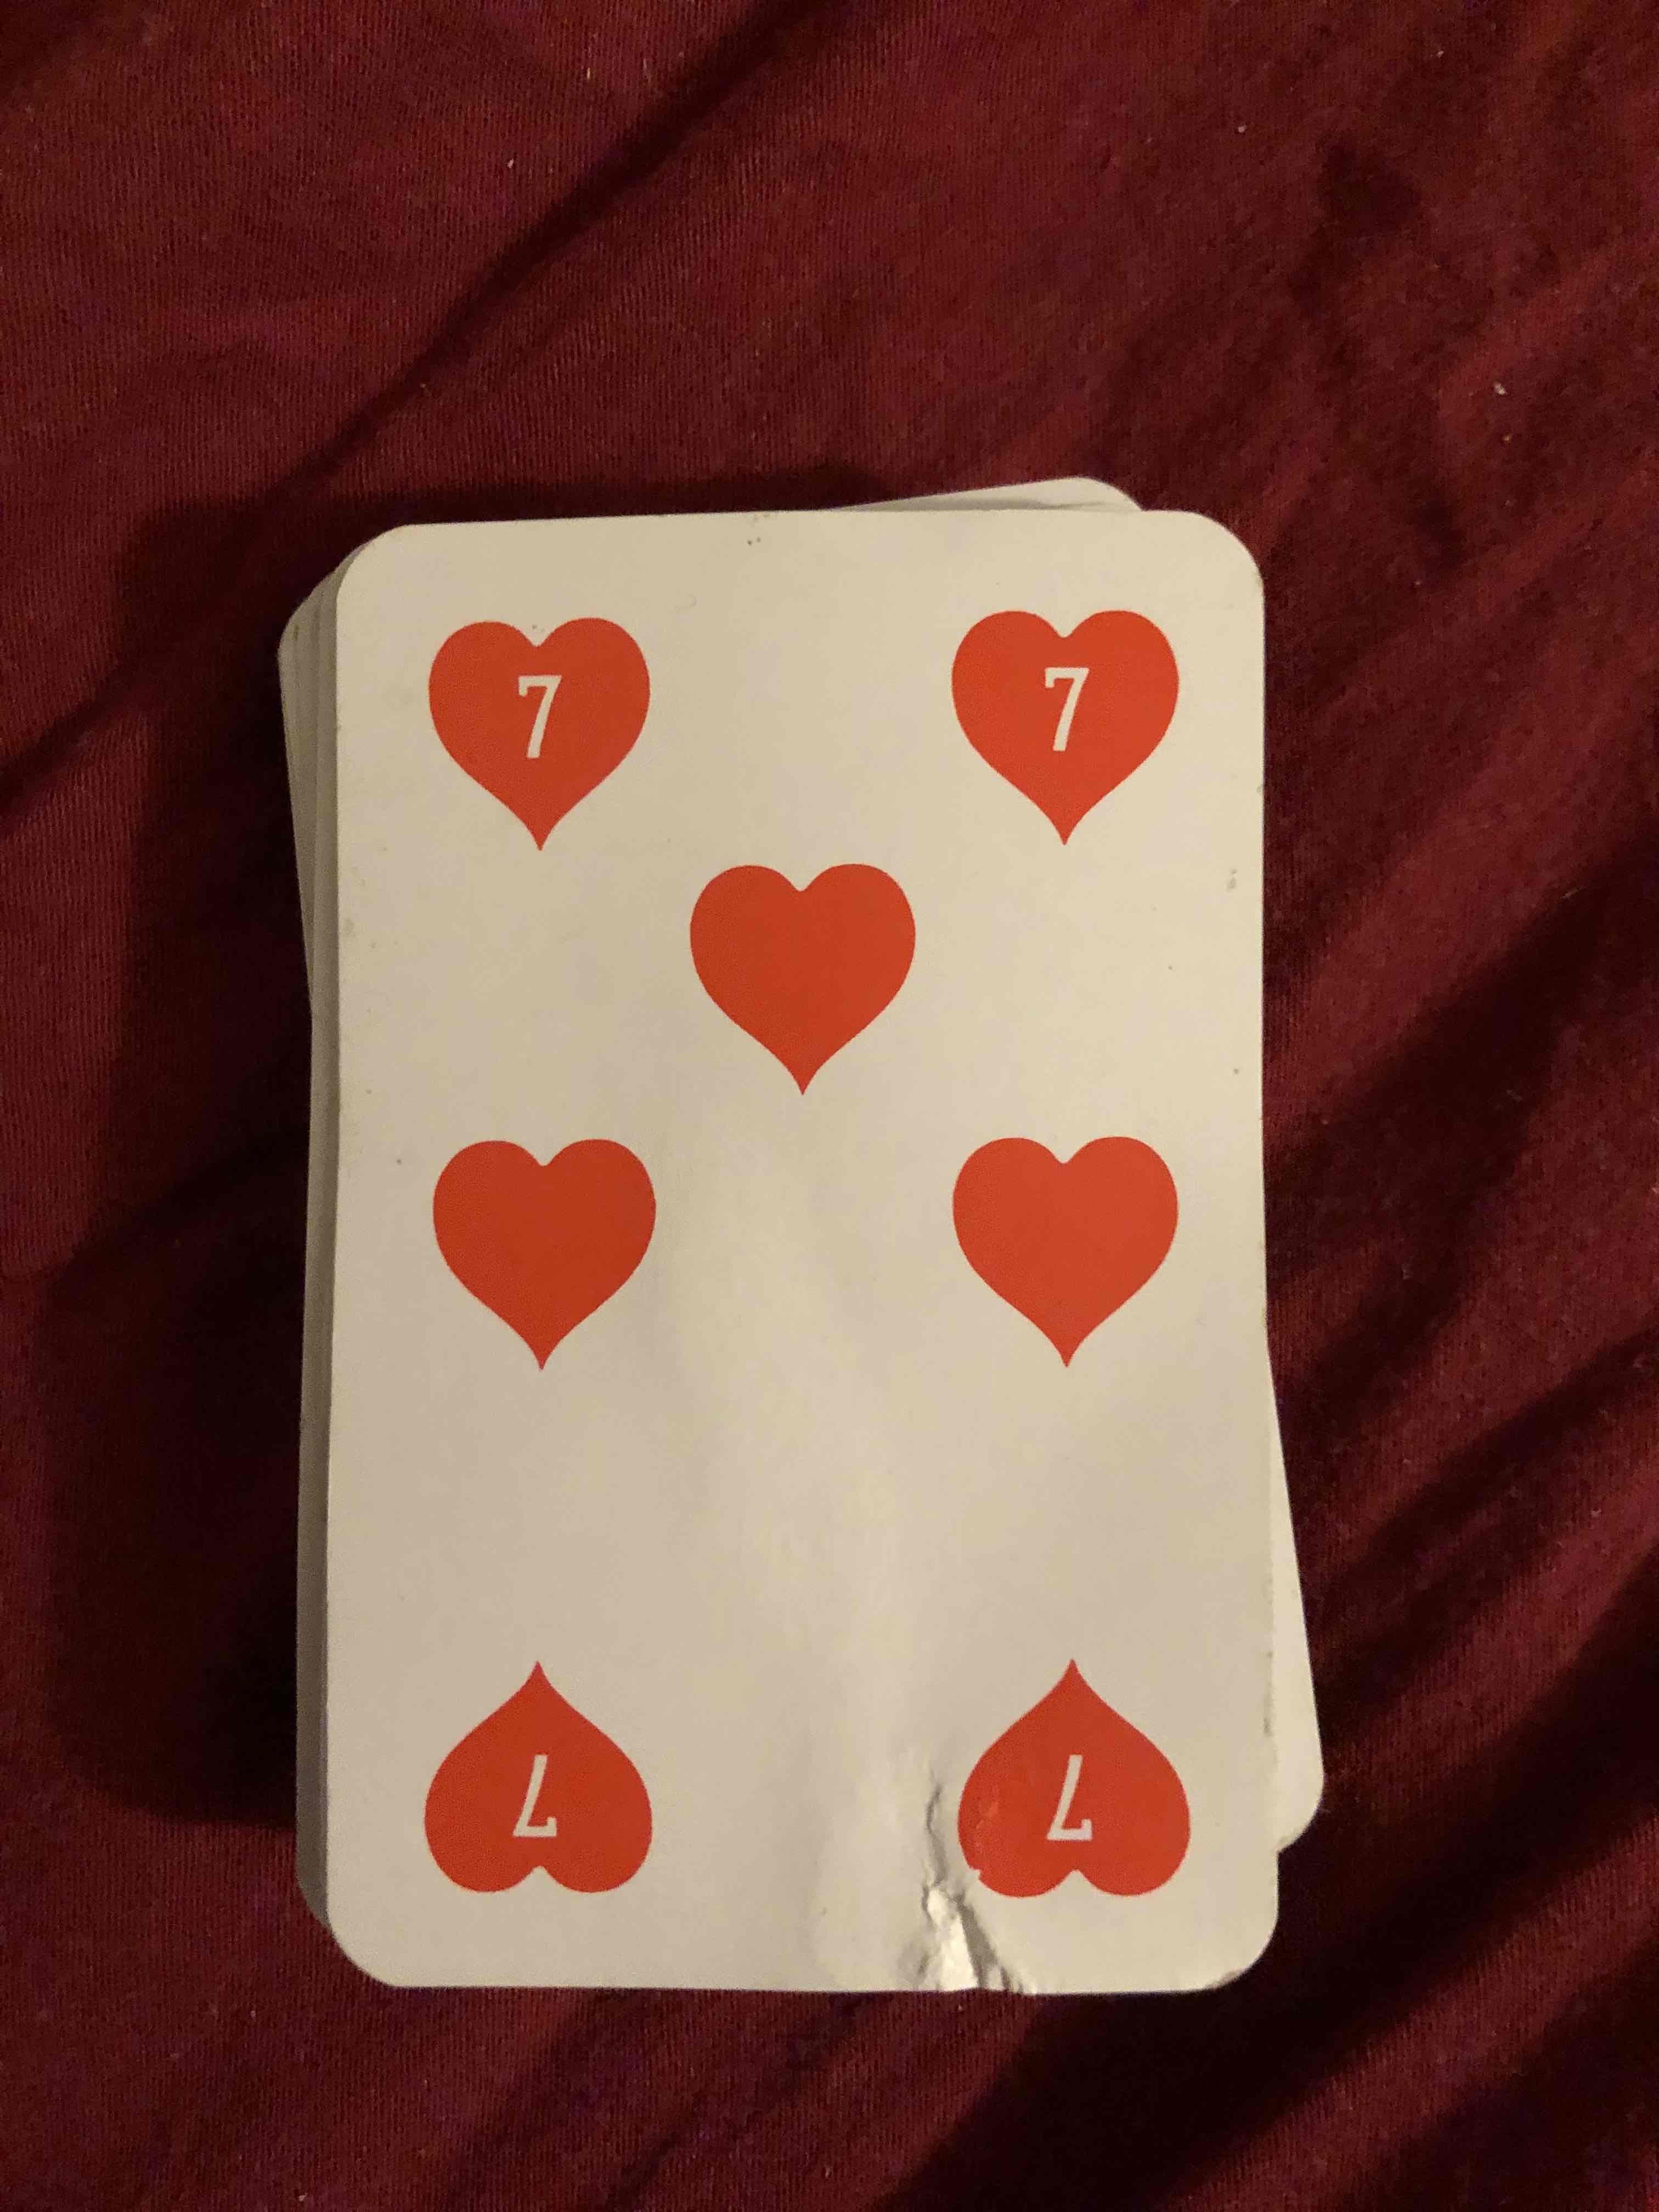hearts7: (350, 528, 1253, 1973)
